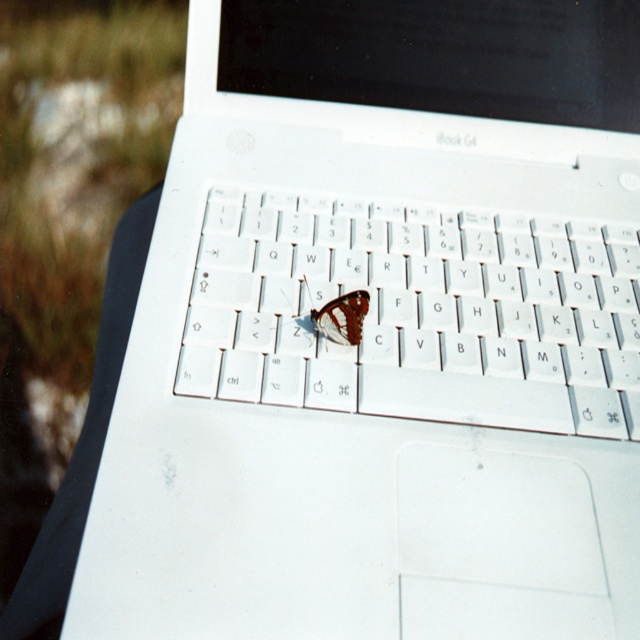Butterfly: (310, 286, 376, 351)
